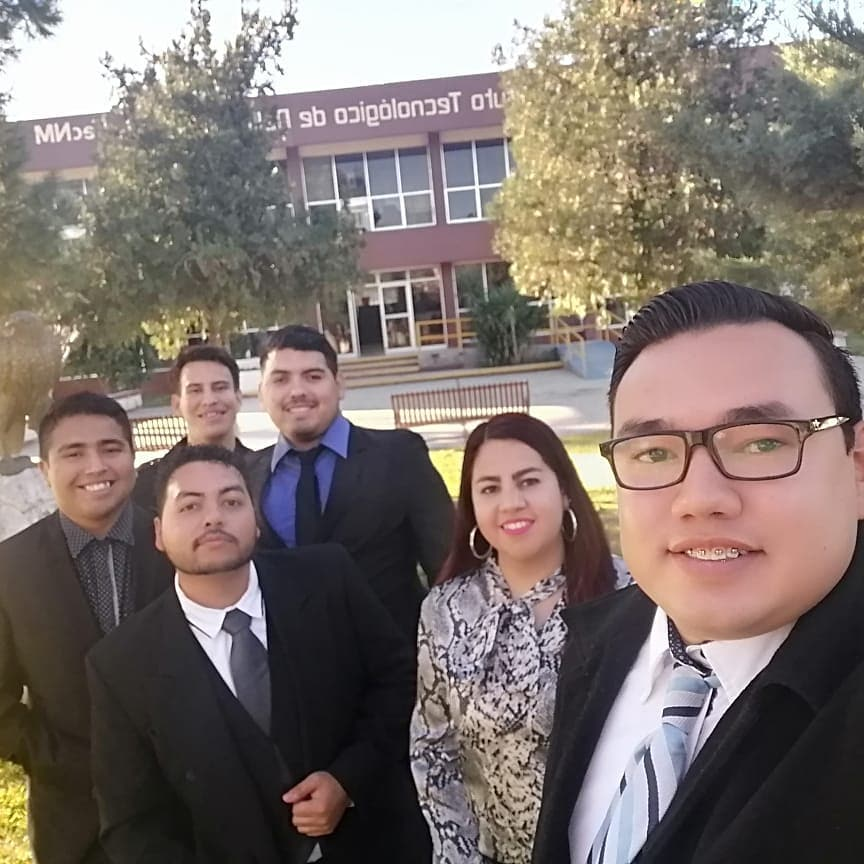Yoshi: (129, 433, 348, 769)
